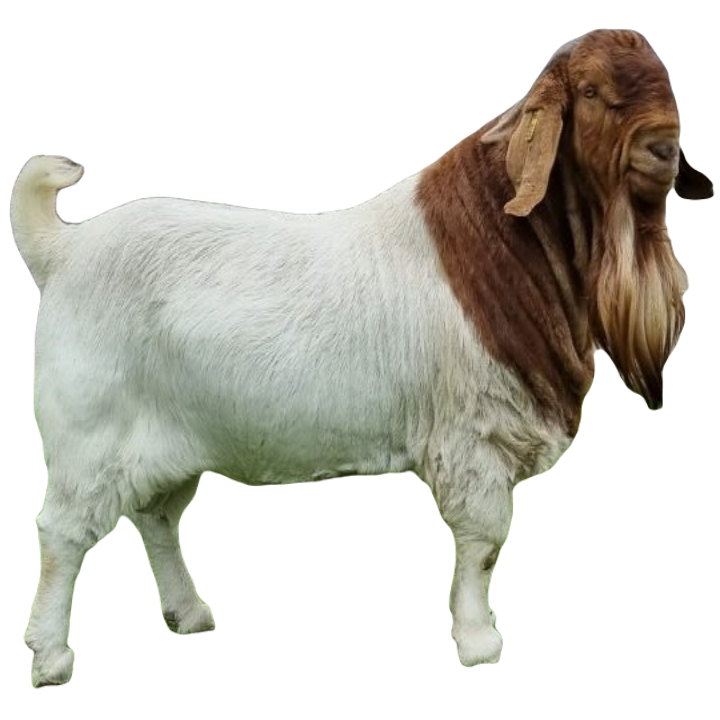Goat: (9, 20, 709, 686)
